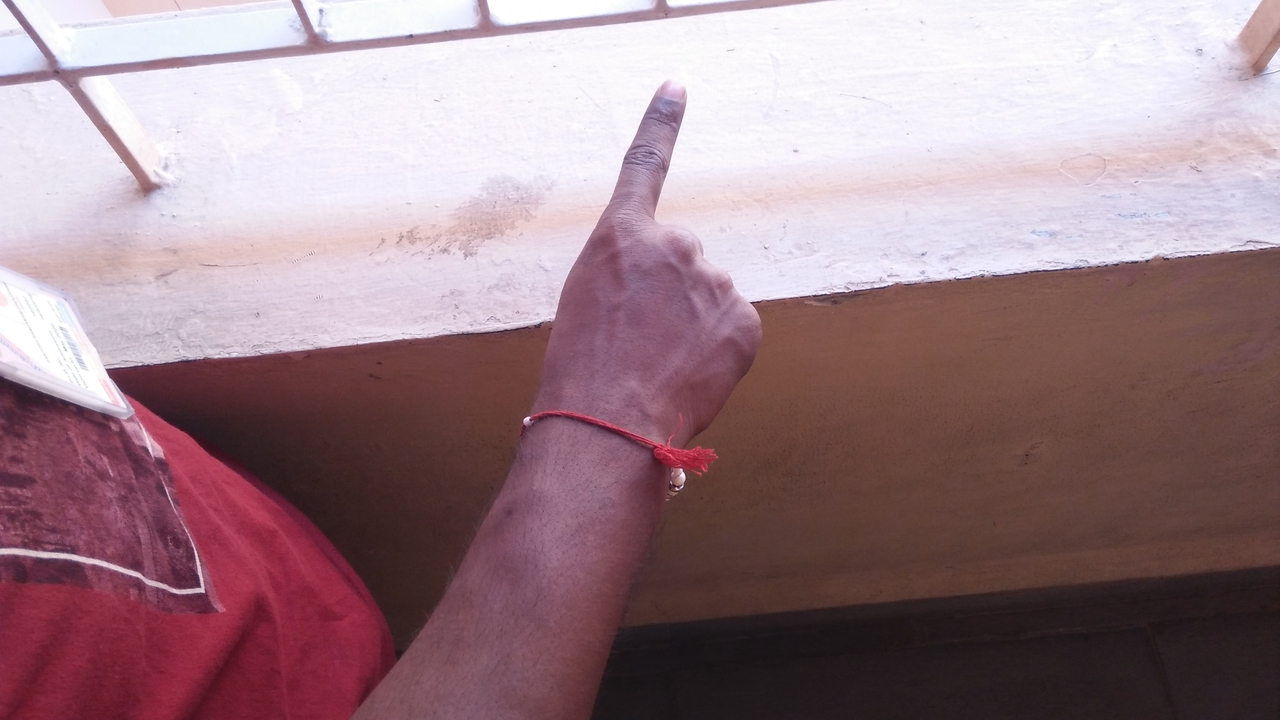fingertip: (642, 68, 694, 118)
